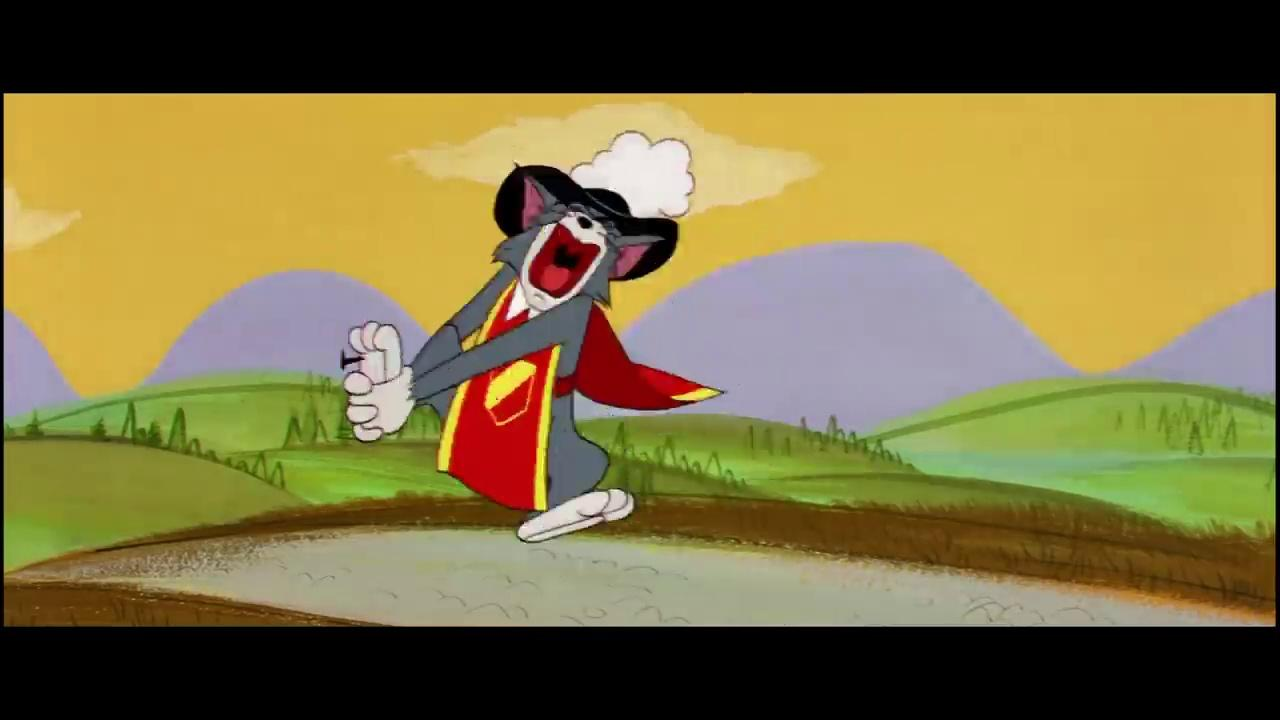Tom: (341, 171, 668, 543)
